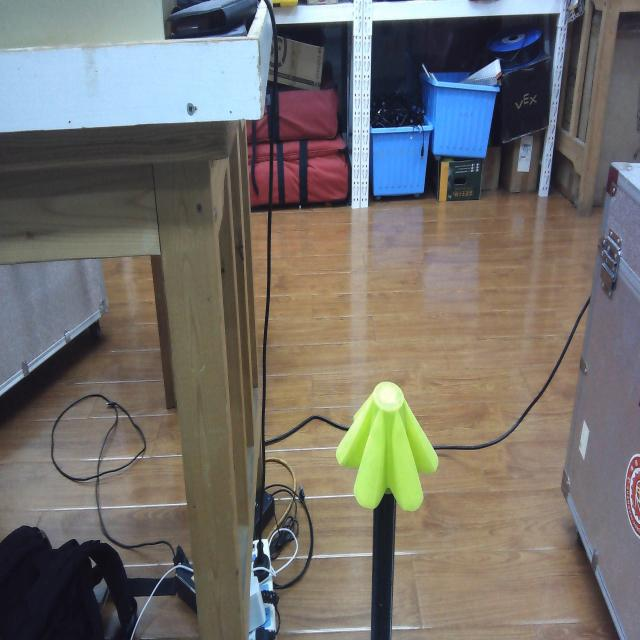Yellow-Stake-Head: (336, 381, 439, 513)
